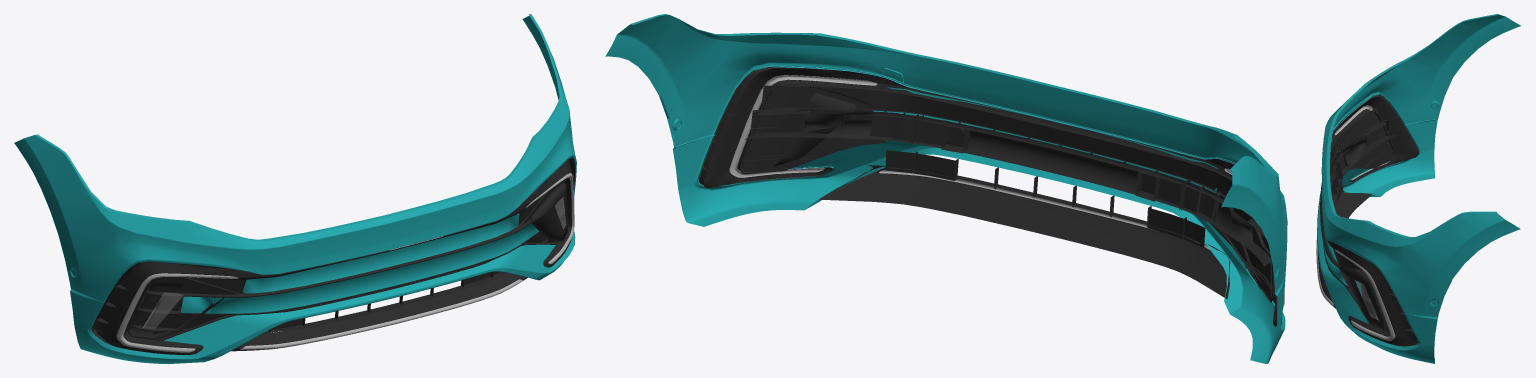
3 renders of one model, left to right at view 1: azimuth 30°, elevation 25°; view 2: azimuth 150°, elevation 25°; view 3: azimuth 270°, elevation 25°, orthographic. The views are drawn at different scales.
Visible parts, largest first — view 1: front bumper 3; view 2: front bumper 3; view 3: front bumper 3.
Part boxes in pixels (box(x1,y1,x2,y2)): front bumper 3: box(14, 14, 576, 363); front bumper 3: box(605, 14, 1287, 363); front bumper 3: box(1316, 14, 1520, 363).
Bounding box in the file's own units: 1.89 × 0.6723 × 0.8057.
